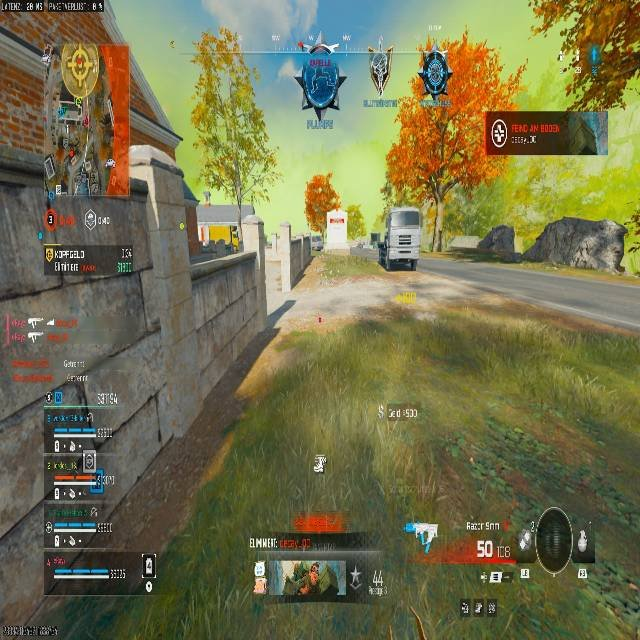player: (299, 52, 341, 127)
